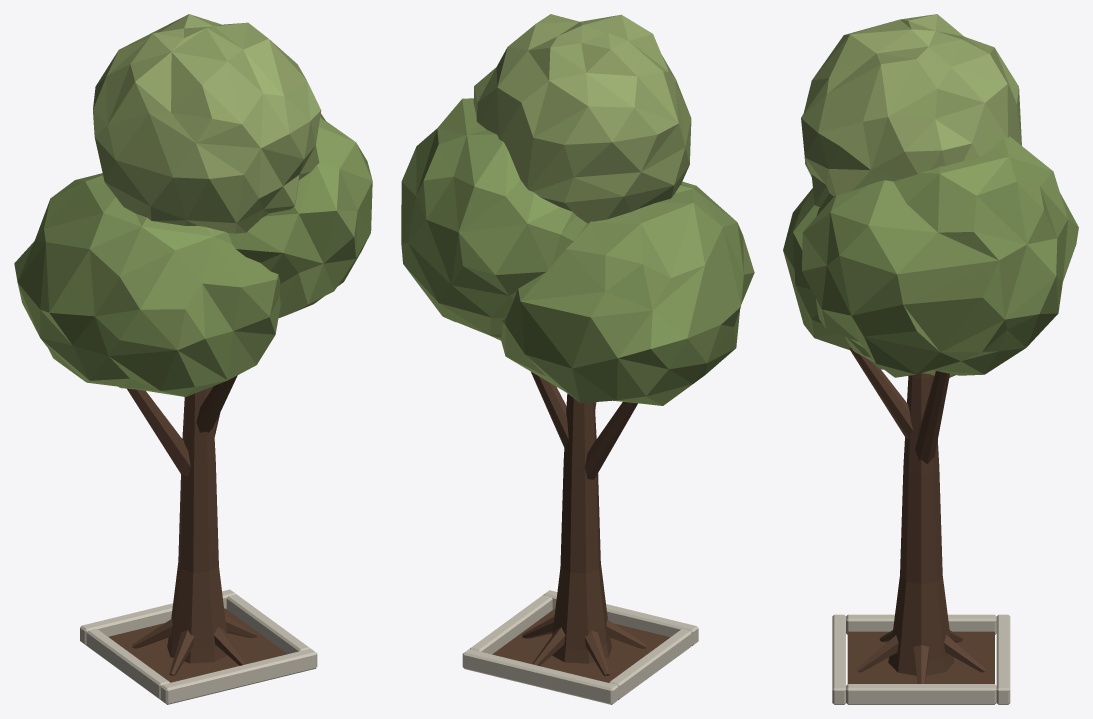
Rendered from SM_Tree_L1.glb.
3 renders of one model, left to right at view 1: azimuth 30°, elevation 25°; view 2: azimuth 150°, elevation 25°; view 3: azimuth 270°, elevation 25°, orthographic. The views are drawn at different scales.
Parts seen in each view (by area): view 1: SM_Tree; view 2: SM_Tree; view 3: SM_Tree.
Boxes of the visible parts, x1,y1,x2,y2 form: SM_Tree: [14, 14, 372, 704]; SM_Tree: [401, 14, 754, 704]; SM_Tree: [783, 14, 1078, 704].
Bounding box in the file's own units: 2.16 × 4.13 × 1.73.
